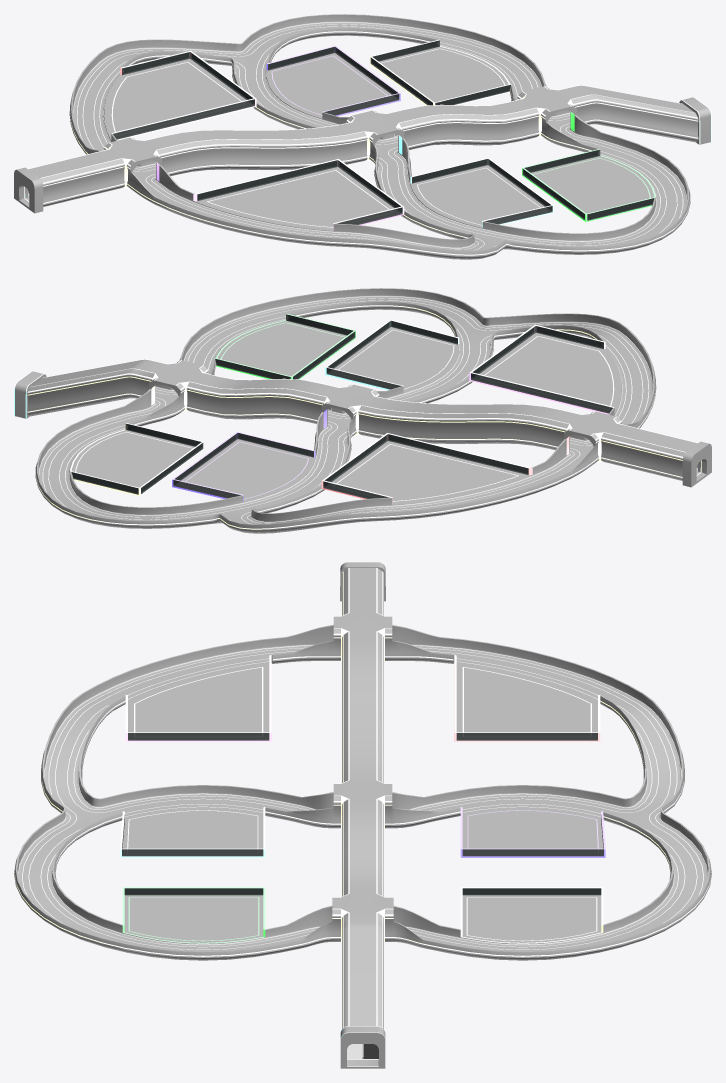
File: All1.fbx
3 views of the same model, one above another, from view 1: azimuth 30°, elevation 25°; view 2: azimuth 150°, elevation 25°; view 3: azimuth 270°, elevation 25° (orthographic). The views are drawn at different scales.
Parts seen in each view (by area): view 1: SM_Tram_ways_Straight_Long.019; view 2: SM_Tram_ways_Straight_Long.019; view 3: SM_Tram_ways_Straight_Long.019.
Part boxes in pixels (<box>): SM_Tram_ways_Straight_Long.019: <box>14,14,711,259</box>; SM_Tram_ways_Straight_Long.019: <box>14,288,711,533</box>; SM_Tram_ways_Straight_Long.019: <box>14,562,711,1068</box>.
Bounding box in the file's own units: 26098 × 4587 × 20933.
